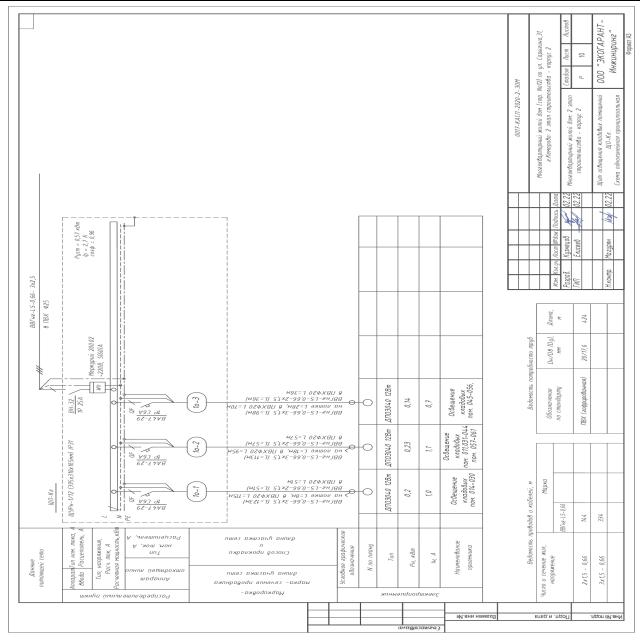-: (85, 334, 106, 377), (67, 439, 75, 516), (135, 497, 167, 511), (136, 452, 168, 466), (66, 394, 86, 415), (136, 408, 168, 421)
QF: (137, 400, 154, 408), (137, 444, 154, 452), (136, 489, 154, 496)
QS: (65, 388, 81, 393)
WH: (88, 380, 106, 392)
